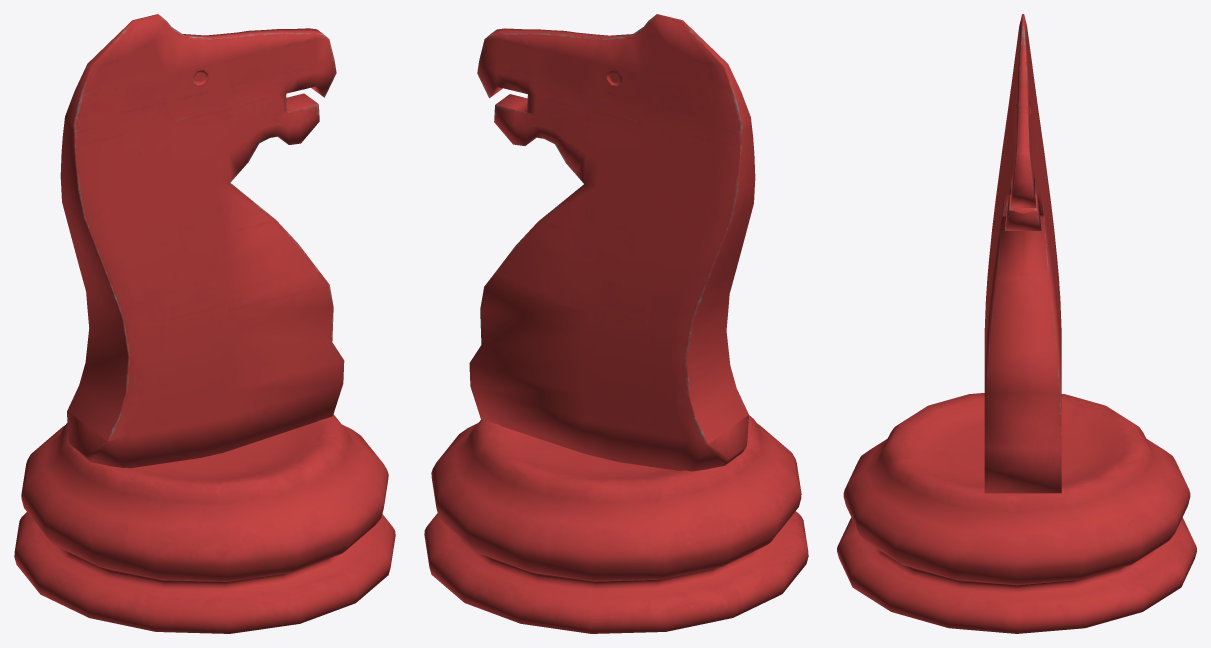
The model's file is knight.glb.
The picture shows the model from 3 angles, left to right: view 1: azimuth 30°, elevation 25°; view 2: azimuth 150°, elevation 25°; view 3: azimuth 270°, elevation 25°; orthographic projection. The views are drawn at different scales.
Visible parts, largest first — view 1: knight.b.001; view 2: knight.b.001; view 3: knight.b.001.
Part boxes in pixels (x1,y1,x2,y2): knight.b.001: (14, 14, 395, 633); knight.b.001: (424, 14, 808, 633); knight.b.001: (837, 14, 1196, 633).
Bounding box in the file's own units: 1.4 × 2.27 × 1.4.
Materials: 1 (1 with a texture image).
